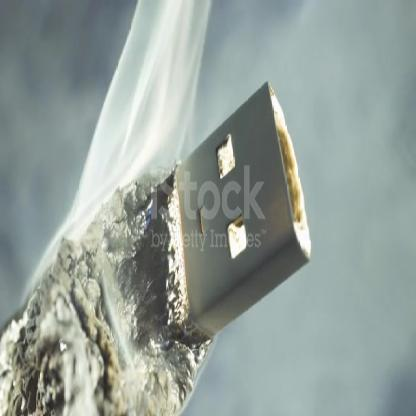smoke: (18, 0, 415, 416)
